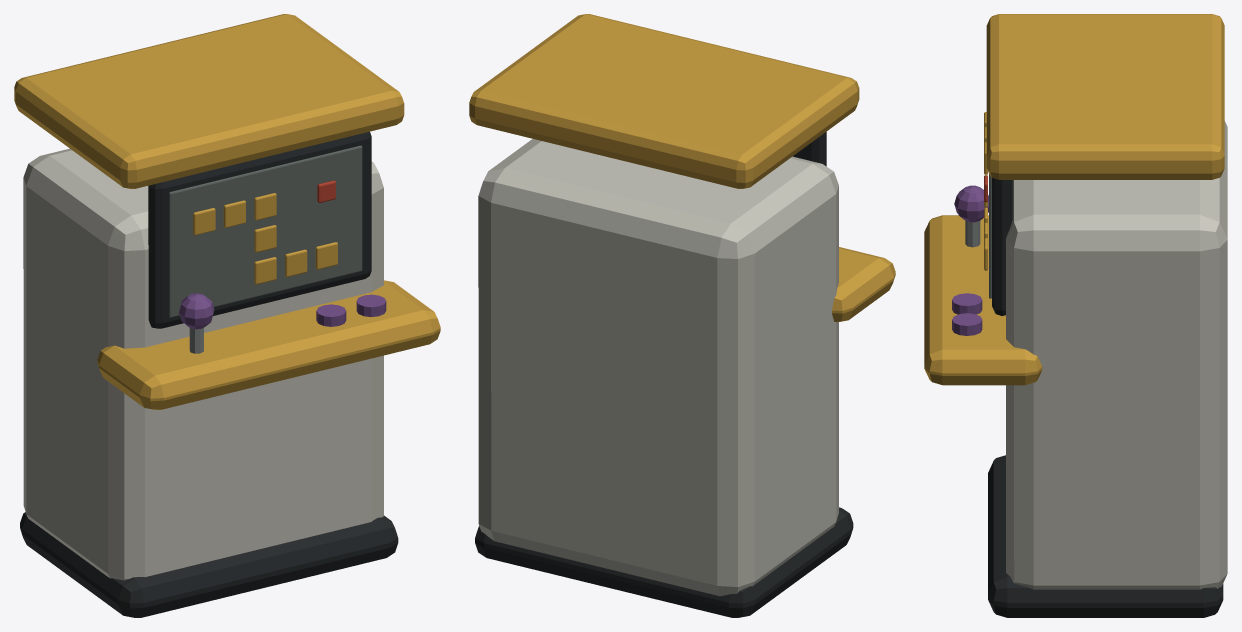
The model's file is bonus.glb.
3 renders of one model, left to right at view 1: azimuth 30°, elevation 25°; view 2: azimuth 150°, elevation 25°; view 3: azimuth 270°, elevation 25°, orthographic.
Visible parts, largest first — view 1: BonusSnakeBody; view 2: BonusSnakeBody; view 3: BonusSnakeBody.
Part boxes in pixels (x1,y1,x2,y2): BonusSnakeBody: [14, 14, 440, 617]; BonusSnakeBody: [469, 14, 895, 617]; BonusSnakeBody: [924, 14, 1227, 617].
Size of the model in its own units: 1.27 by 1.9 by 1.1.
